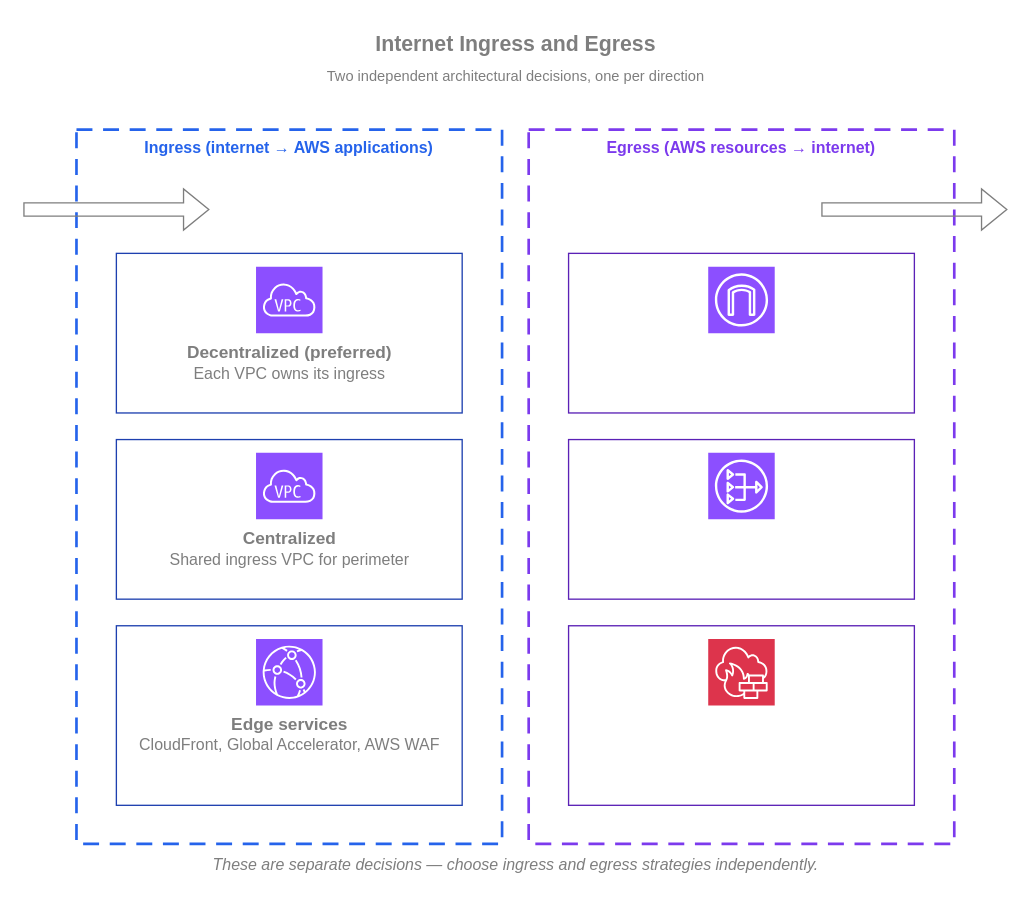
Image size: 1029x900. Some labels were removed from this diagram. The centre of each missing label's shape, as x and y in pixels:
"Filtering AWS Network Firewall, GWLB + 3rd-party, Route 53 DNS Firewall" belongs at (741,672).
"IPv4 Decentralized vs centralized by cost, ownership, inspection placement" belongs at (741,485).
"IPv6 Decentralized by design (egress-only IGW per VPC)" belongs at (741,299).
